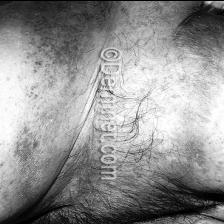Toxin: (0, 0, 105, 202)
